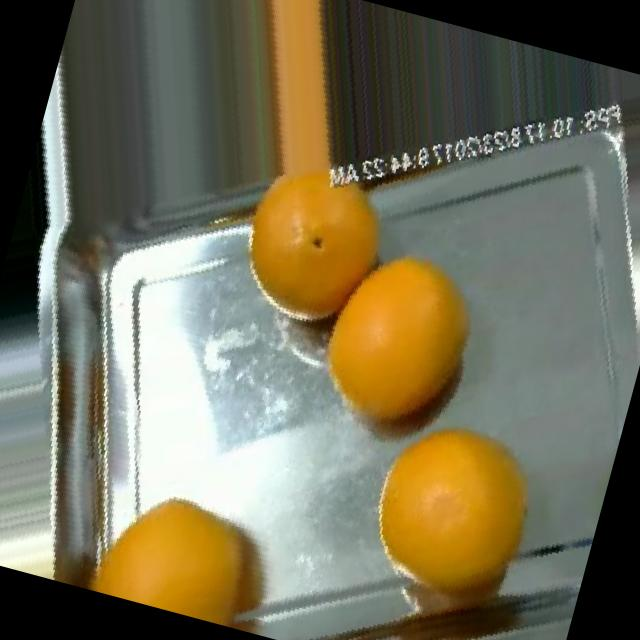Fruit: (280, 209, 517, 471), (188, 131, 418, 364)
